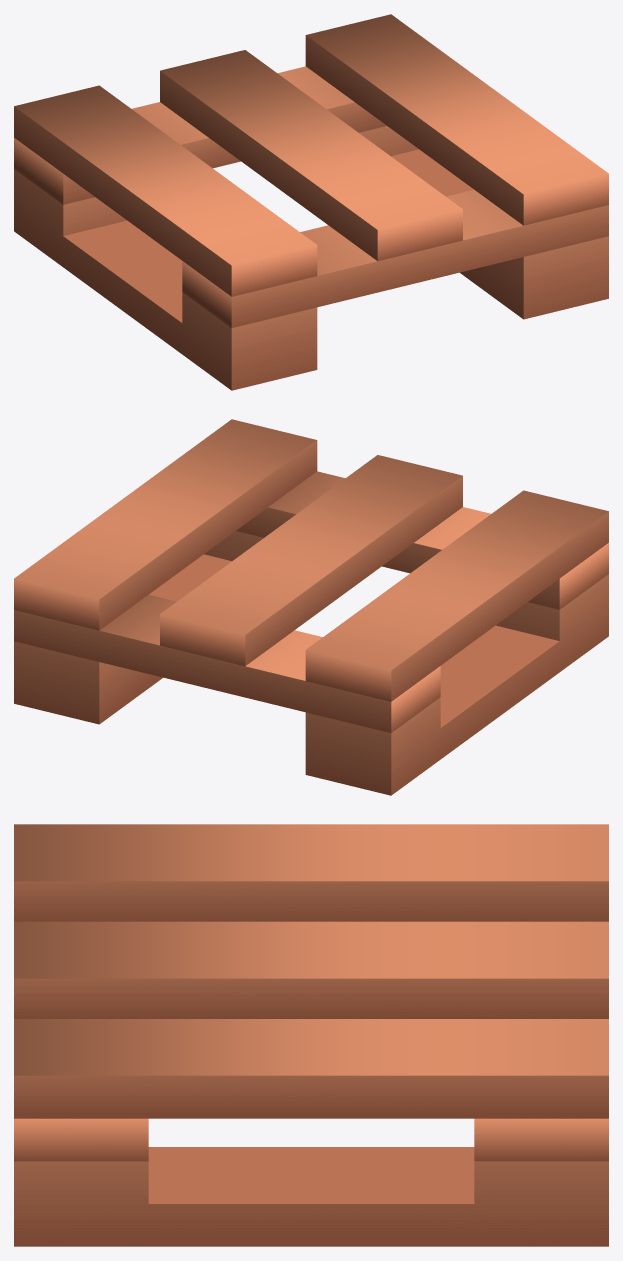
Rendered from pallet.glb.
3 views of the same model, one above another, from view 1: azimuth 30°, elevation 25°; view 2: azimuth 150°, elevation 25°; view 3: azimuth 270°, elevation 25° (orthographic). The views are drawn at different scales.
Visible parts, largest first — view 1: pallet; view 2: pallet; view 3: pallet.
Boxes of the visible parts, box(x1,y1,x2,y2) form: pallet: box(14, 14, 608, 390); pallet: box(14, 419, 608, 795); pallet: box(14, 824, 608, 1246).
Size of the model in its own units: 1.27 by 0.402 by 1.27.
Materials: 1 (1 with a texture image).
